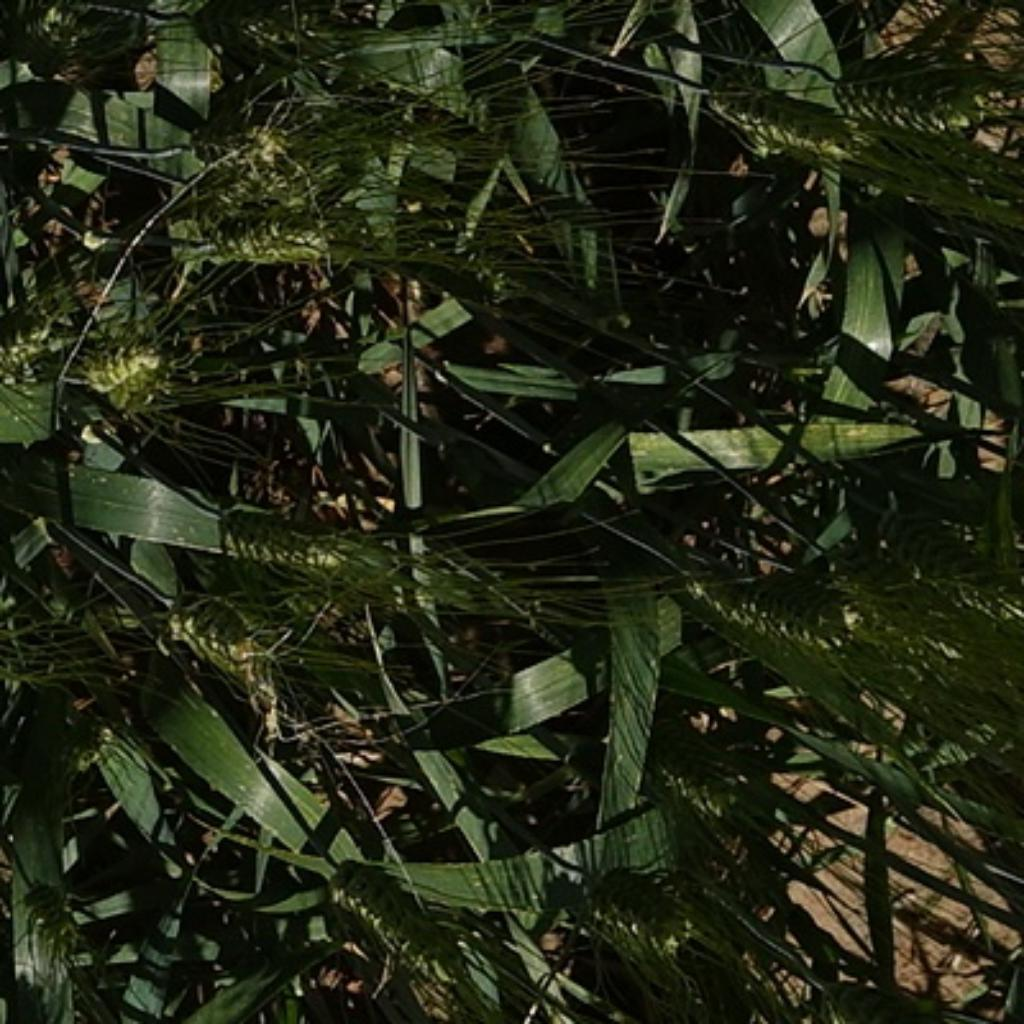0-0: (284, 74, 432, 243), (317, 844, 481, 985), (675, 545, 847, 668), (696, 40, 852, 166), (867, 501, 1024, 622), (209, 483, 368, 593), (176, 104, 302, 235), (568, 855, 704, 972), (176, 0, 381, 76), (637, 709, 775, 821), (158, 600, 304, 704), (821, 51, 985, 143), (0, 855, 99, 1003), (181, 179, 330, 266), (69, 304, 184, 412), (0, 256, 87, 396), (378, 32, 496, 129), (0, 1, 138, 75)
